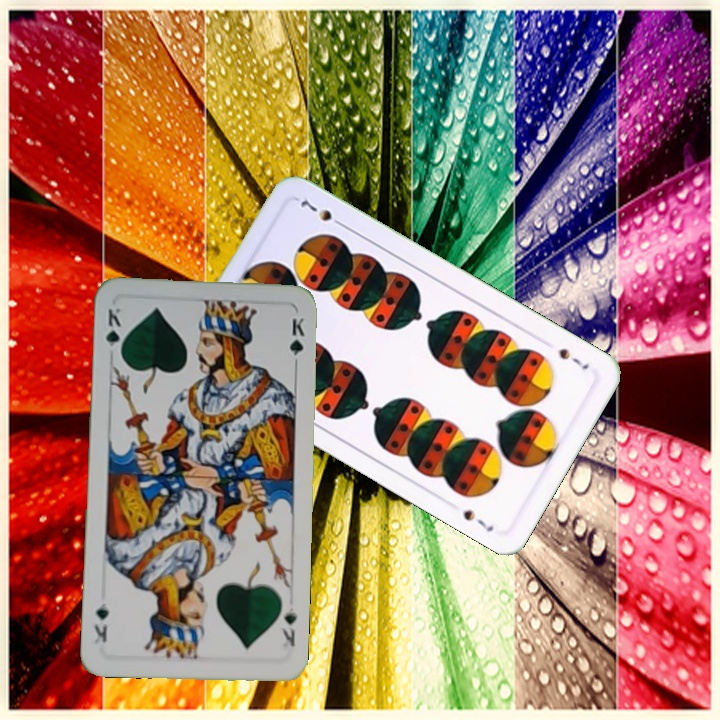GK: (102, 304, 124, 361), (278, 603, 299, 649)
S7: (555, 344, 592, 373)
